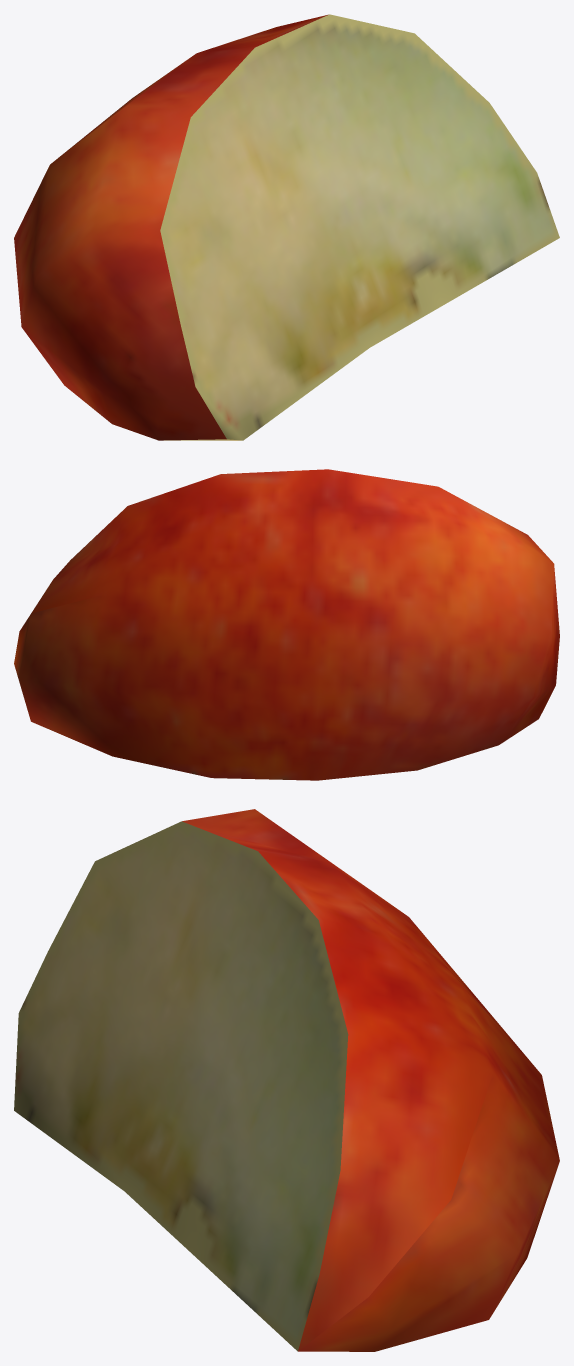
File: apple_part_2.FBX
The picture shows the model from 3 angles, top to bottom: view 1: azimuth 30°, elevation 25°; view 2: azimuth 150°, elevation 25°; view 3: azimuth 270°, elevation 25°; orthographic projection. The views are drawn at different scales.
Visible parts, largest first — view 1: apple_part_2; view 2: apple_part_2; view 3: apple_part_2.
Boxes of the visible parts, <box> form: apple_part_2: <box>14,14,559,440</box>; apple_part_2: <box>14,469,559,780</box>; apple_part_2: <box>14,809,559,1351</box>.
Size of the model in its own units: 0.1607 by 0.0793 by 0.1182.
